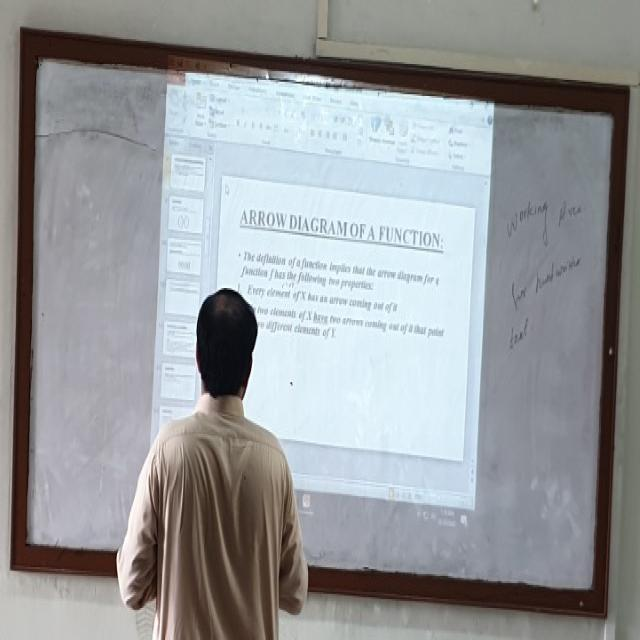Instructor: (143, 274, 295, 640)
Slide: (147, 60, 493, 533)
White-board: (21, 37, 620, 613)
